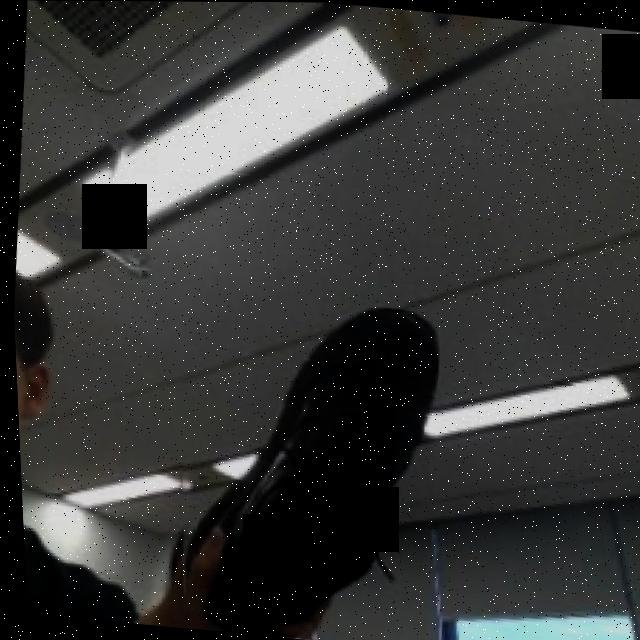shoe: (148, 288, 449, 640)
